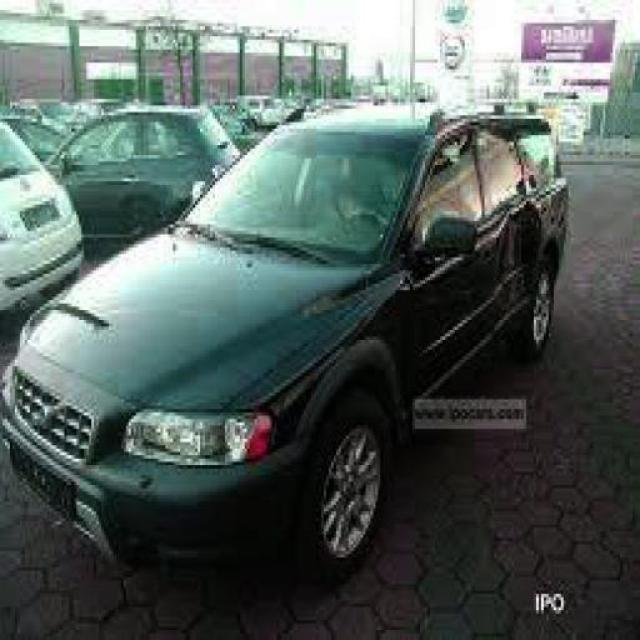car damage: (488, 198, 548, 323)
